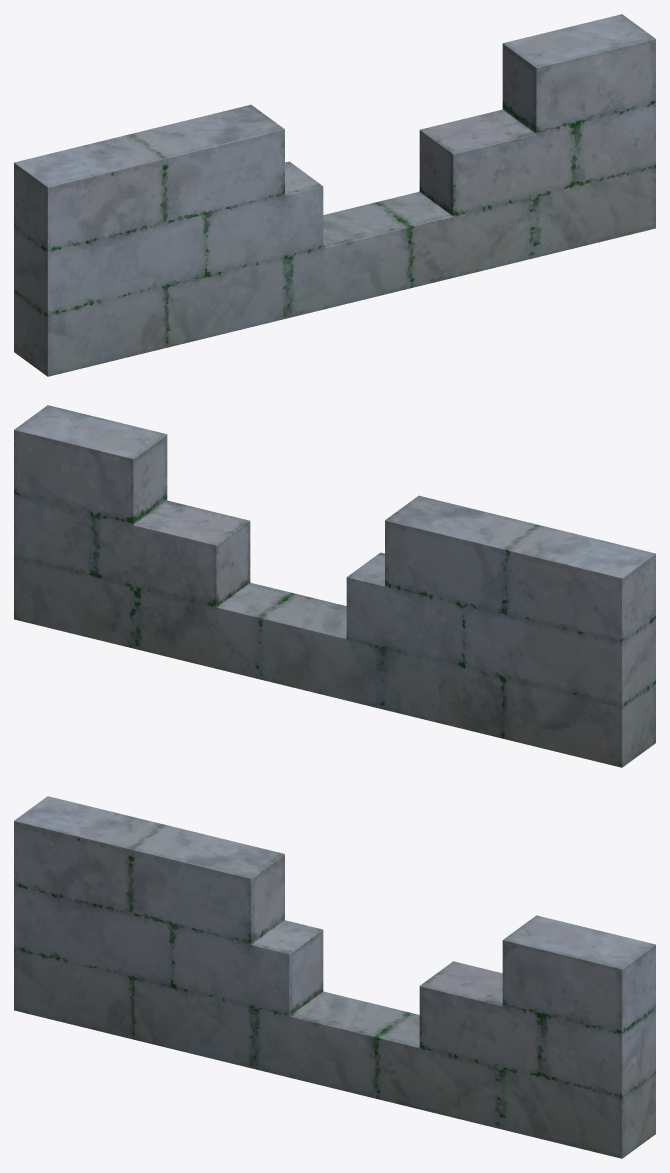
Rendered from Birck_long_Damage_Low.fbx.
3 renders of one model, top to bottom at view 1: azimuth 30°, elevation 25°; view 2: azimuth 150°, elevation 25°; view 3: azimuth 330°, elevation 25°, orthographic.
Parts seen in each view (by area): view 1: Birck_long_Damage_Low; view 2: Birck_long_Damage_Low; view 3: Birck_long_Damage_Low.
Part boxes in pixels (bbox=[...]): Birck_long_Damage_Low: bbox=[14, 14, 655, 376]; Birck_long_Damage_Low: bbox=[14, 405, 655, 767]; Birck_long_Damage_Low: bbox=[14, 796, 655, 1158].
Size of the model in its own units: 5.37 by 1.6 by 0.5183.
